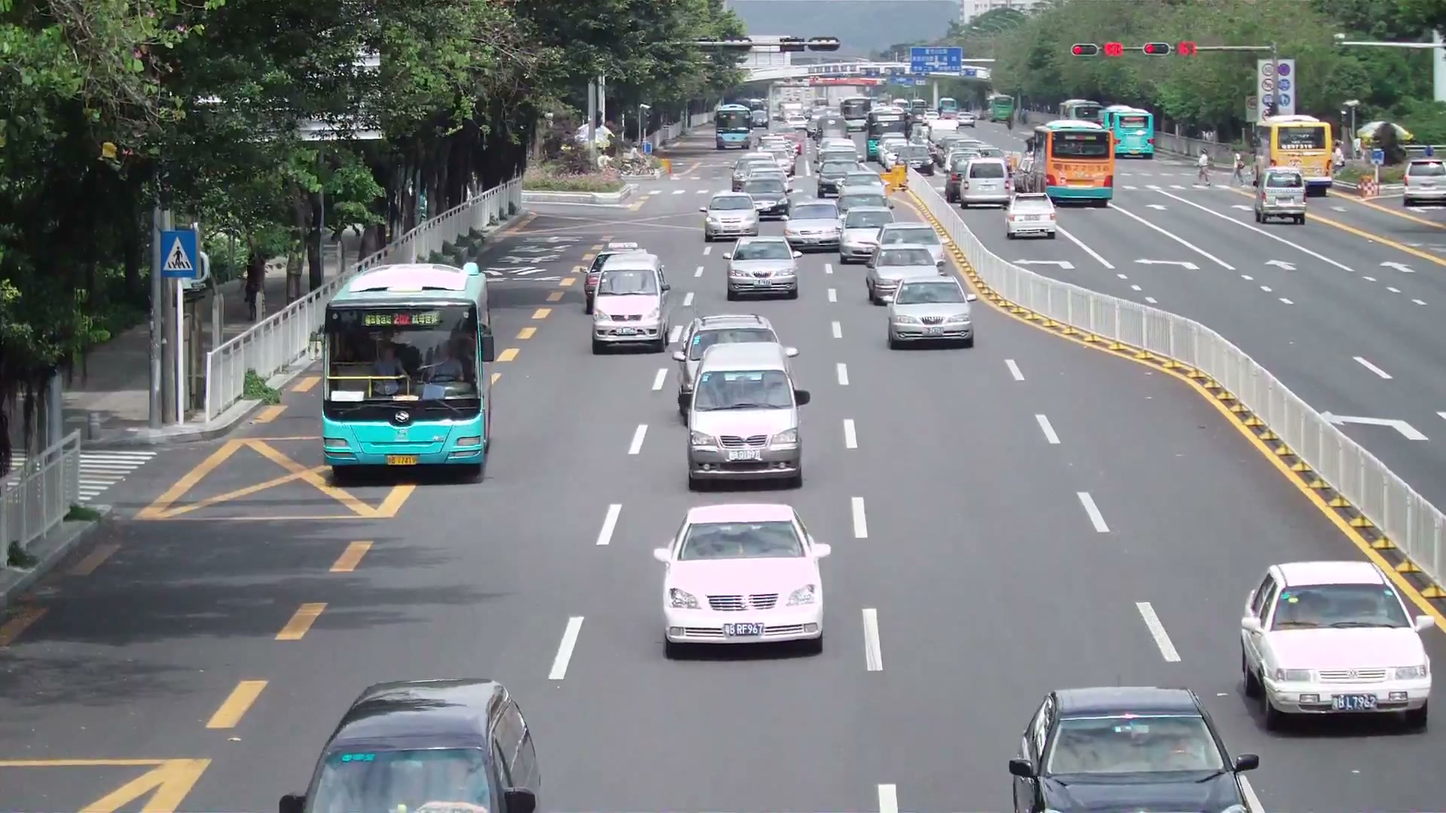bus: (321, 258, 495, 480), (1039, 119, 1115, 207), (1260, 115, 1336, 192), (1099, 105, 1155, 159)
car: (280, 676, 541, 811), (1238, 560, 1434, 732), (1008, 686, 1266, 812), (654, 500, 831, 657), (684, 343, 808, 492), (671, 312, 780, 422), (589, 256, 671, 353), (863, 226, 949, 306), (886, 275, 975, 351), (724, 237, 800, 299), (1256, 164, 1306, 227), (782, 200, 842, 251), (703, 192, 761, 242), (1005, 192, 1058, 239), (1401, 157, 1445, 206)
pedestrian: (430, 322, 474, 383)
truck: (1259, 115, 1335, 195), (1257, 165, 1306, 225)
